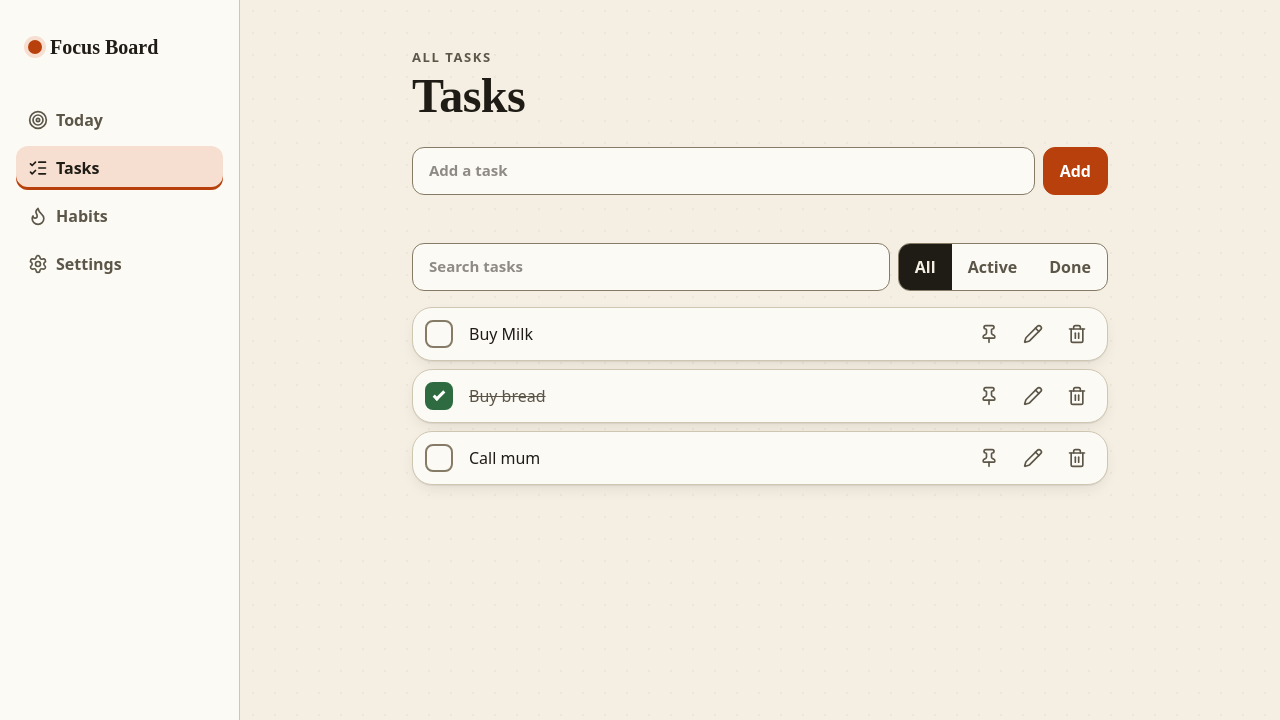
Scenario: AC6: filter and search › combines status filter with case-insensitive search
Type "BUY" into the search field labelled "Search tasks".
click(651, 267); type("BUY")  # box [412, 243, 890, 291]
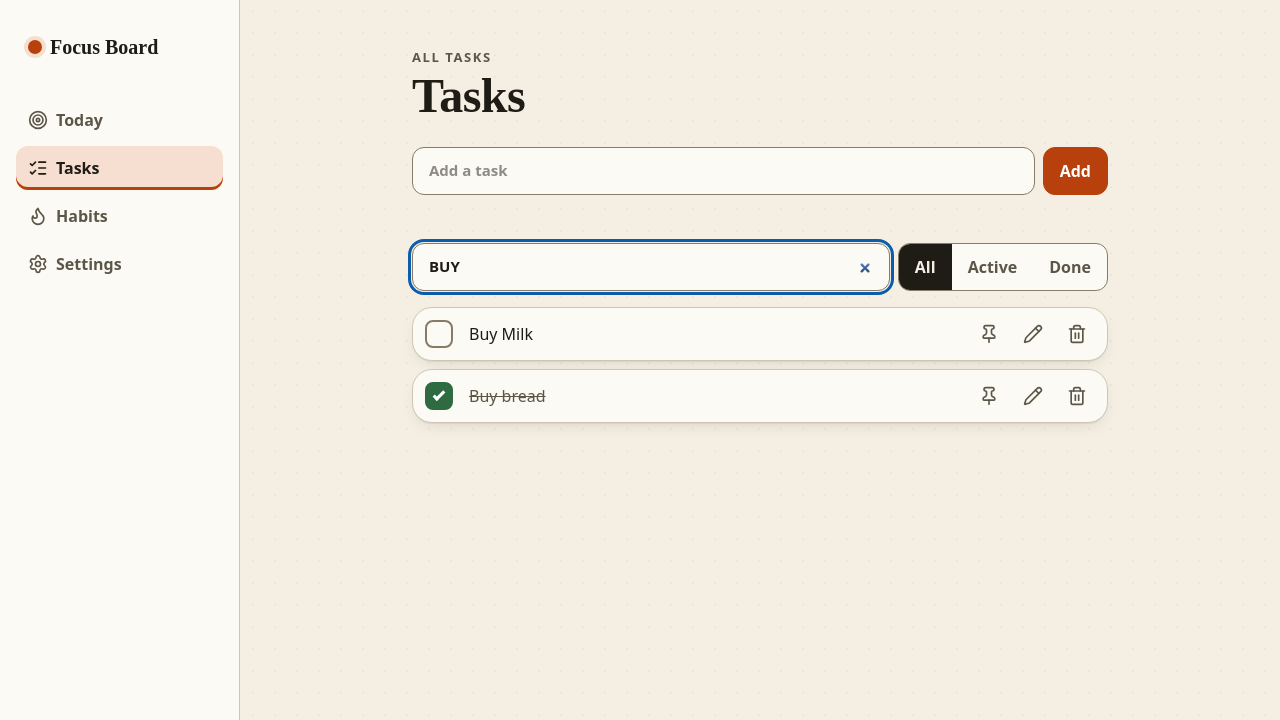
Check: the number of list items is 2, box [412, 307, 1108, 361]; [412, 369, 1108, 423]
Click the button "Active".
click(992, 267)  # box [952, 244, 1033, 290]
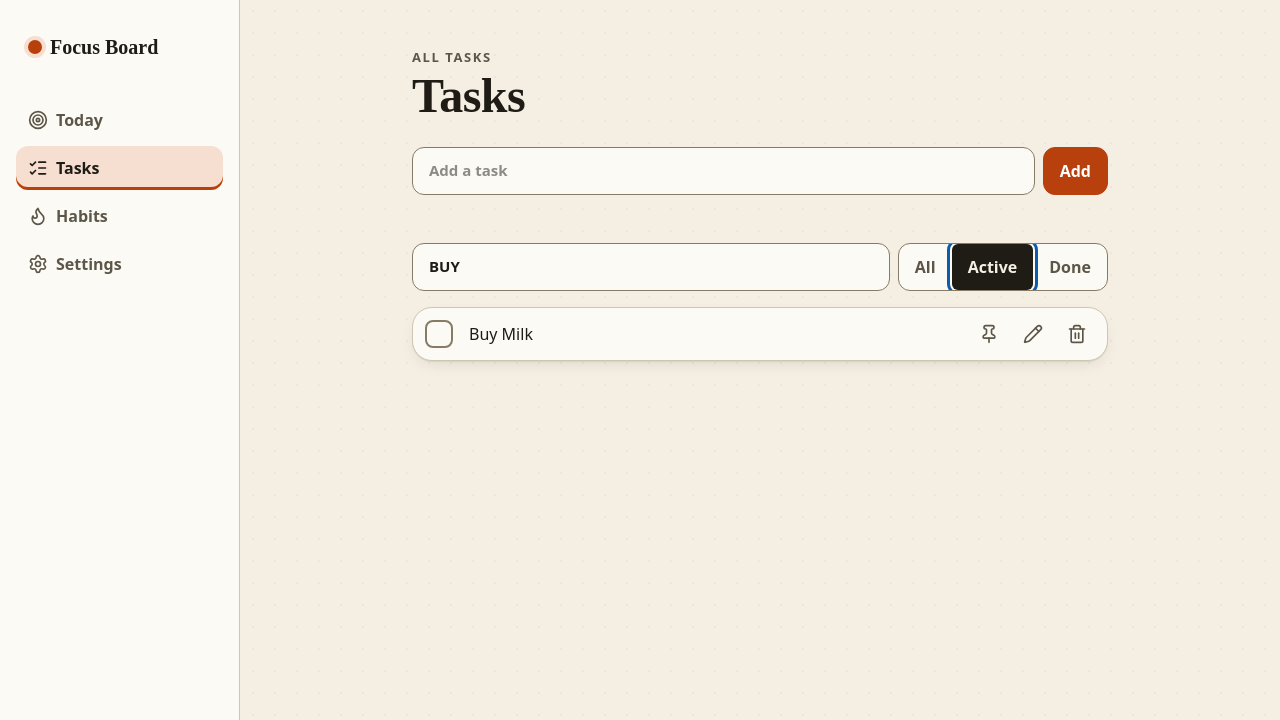
Check: the list item reads "Buy Milk", box [469, 323, 533, 345]
Check: the number of list items is 1, box [412, 307, 1108, 361]
